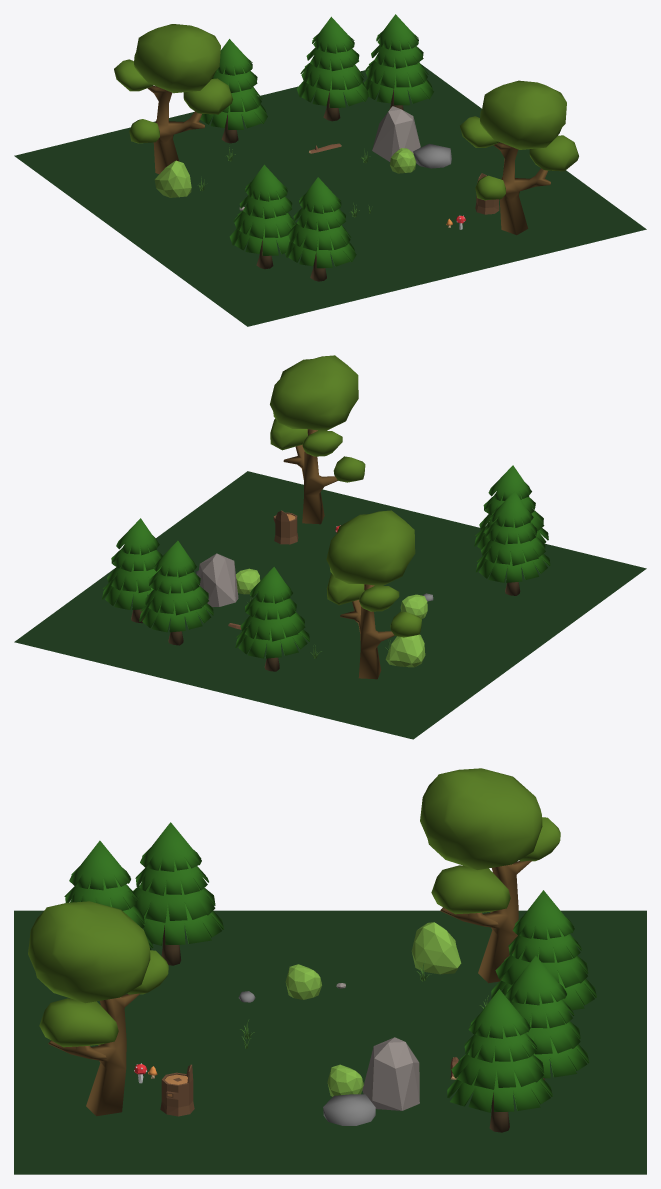
Rendered from GraceLiTrial.gltf.
3 renders of one model, top to bottom at view 1: azimuth 30°, elevation 25°; view 2: azimuth 150°, elevation 25°; view 3: azimuth 270°, elevation 25°, orthographic. The views are drawn at different scales.
Visible parts, largest first — view 1: Branch; view 2: Branch; view 3: Branch.
Part boxes in pixels (box(x1,y1,x2,y2)): Branch: box(14, 14, 646, 326); Branch: box(14, 355, 646, 739); Branch: box(14, 768, 646, 1174).
Size of the model in its own units: 36.72 by 14.21 by 37.22.
